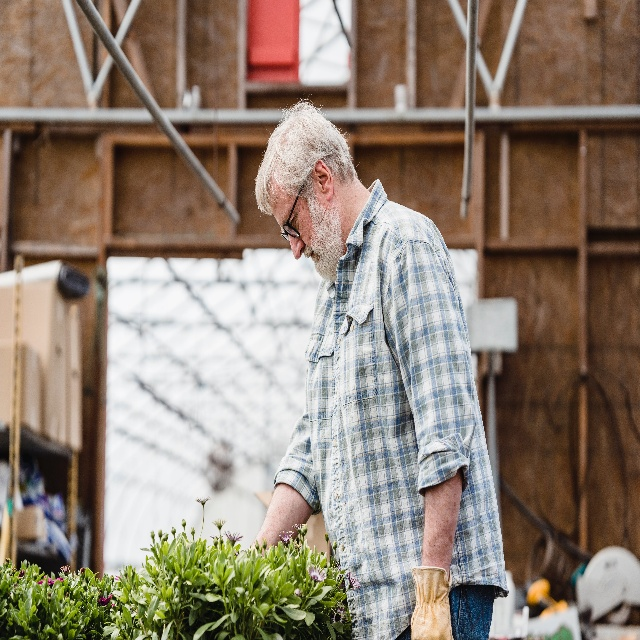Gafas: (280, 173, 312, 242)
Guantes: (408, 559, 457, 640)
